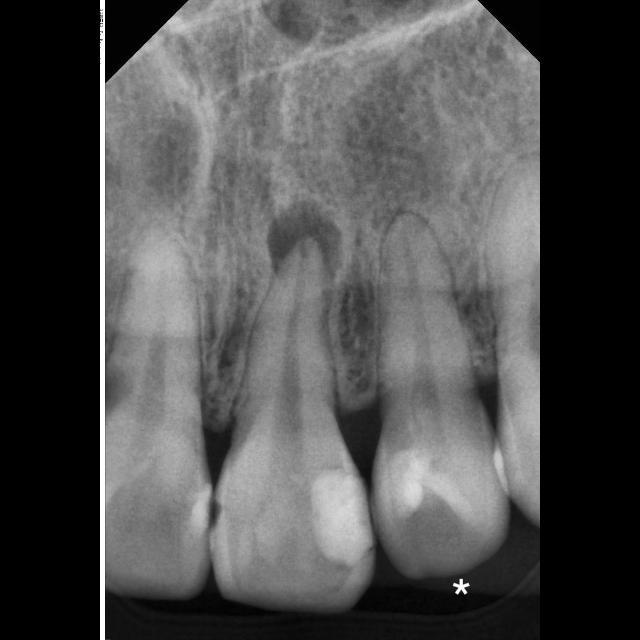test-segment: (373, 216, 507, 579)
